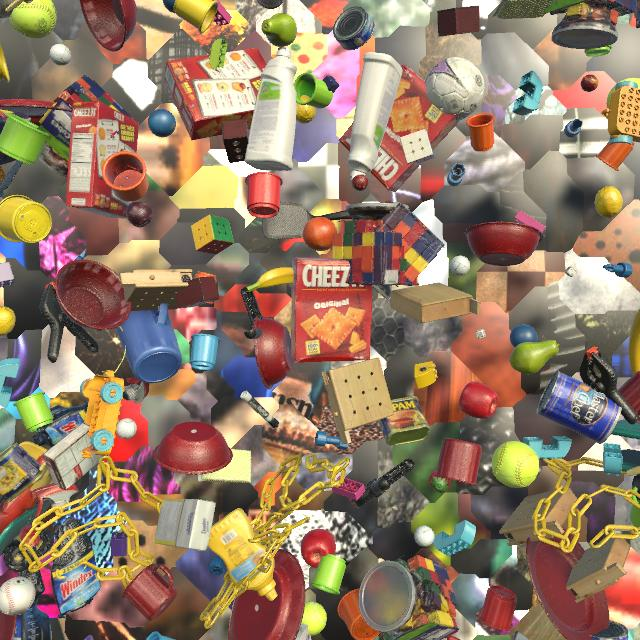ycb_002_master_chef_can: (536, 371, 622, 444), (589, 620, 628, 640)
ycb_003_cracker_box: (338, 64, 459, 192), (165, 48, 266, 140), (290, 257, 373, 363), (65, 101, 139, 218)
ycb_004_sugar_box: (154, 498, 216, 551), (296, 623, 311, 640)
ycb_005_tomato_soup_can: (257, 0, 284, 9)
ycb_006_mustard_bottle: (208, 508, 277, 601)
ycb_007_tuna_fish_can: (333, 6, 375, 50)
ycb_008_pudding_box: (42, 423, 103, 490), (511, 631, 530, 640)
ycb_010_potted_meat_can: (0, 443, 46, 503), (378, 396, 430, 446)
ycb_011_banana: (247, 267, 294, 292), (628, 309, 640, 375)
ycb_012_strawberry: (429, 470, 451, 493)
ycb_013_apple: (459, 381, 498, 419), (301, 529, 336, 568)
ycb_014_lemon: (595, 186, 623, 219), (296, 95, 316, 124), (0, 306, 16, 336)
ycb_016_pear: (510, 340, 560, 374), (261, 13, 297, 47)
ycb_017_orange: (303, 217, 338, 251)
ycb_018_plum: (126, 201, 153, 227)
